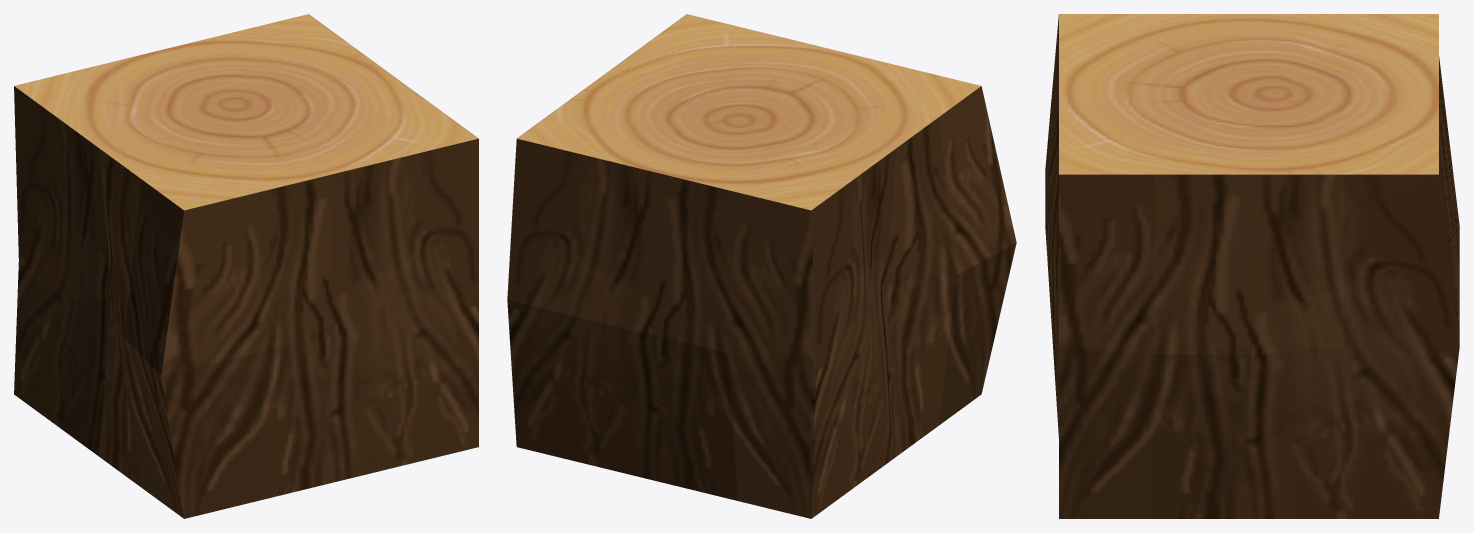
The model's file is TreeNoSides.fbx.
3 renders of one model, left to right at view 1: azimuth 30°, elevation 25°; view 2: azimuth 150°, elevation 25°; view 3: azimuth 270°, elevation 25°, orthographic. The views are drawn at different scales.
Visible parts, largest first — view 1: TreeNoSides; view 2: TreeNoSides; view 3: TreeNoSides.
Part boxes in pixels (left/top/right/bottom): TreeNoSides: left=14, top=14, right=478, bottom=518; TreeNoSides: left=507, top=14, right=1016, bottom=518; TreeNoSides: left=1045, top=14, right=1459, bottom=518.
Size of the model in its own units: 229 by 200 by 218.
